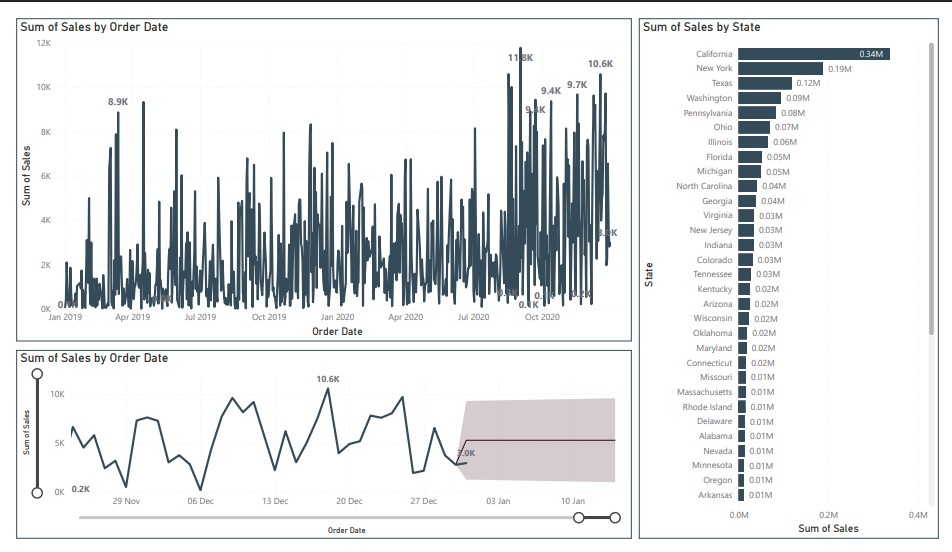

Layout of this report page (visuals, bound fields, positions):
{"tool":"powerbi","page":{"name":"Page 2","canvas":[1280,720],"ordinal":1},"visuals":[{"type":"lineChart","fields":{"Y":["Sum(SuperStore_Sales_Dataset.Sales)"],"Category":["SuperStore_Sales_Dataset.Order Date"]},"box":[0,458.6,854.3,261.4],"z":0},{"type":"lineChart","fields":{"Y":["Sum(SuperStore_Sales_Dataset.Sales)"],"Category":["SuperStore_Sales_Dataset.Order Date"]},"box":[0,0,854.3,447.1],"z":1000},{"type":"clusteredBarChart","fields":{"Category":["SuperStore_Sales_Dataset.State"],"Y":["Sum(SuperStore_Sales_Dataset.Sales)"]},"box":[864.3,0,415.7,720],"z":2000}]}

Visuals, with their boxes in screenshot pixels (x1, y1, x2, y2), scaled from the page's 1280x720 canvas onto the 952x552 screenshot:
lineChart - Sum(SuperStore_Sales_Dataset.Sales) x SuperStore_Sales_Dataset.Order Date: x1=0, y1=352, x2=635, y2=551
lineChart - Sum(SuperStore_Sales_Dataset.Sales) x SuperStore_Sales_Dataset.Order Date: x1=0, y1=0, x2=635, y2=343
clusteredBarChart - SuperStore_Sales_Dataset.State x Sum(SuperStore_Sales_Dataset.Sales): x1=643, y1=0, x2=951, y2=551
